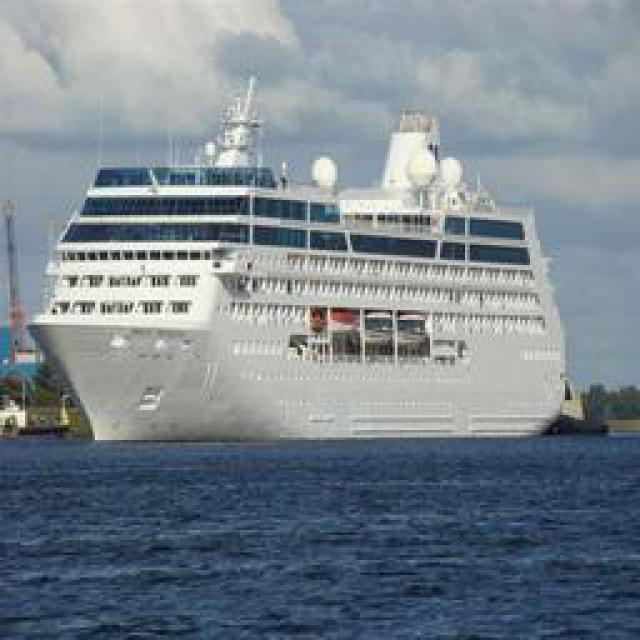Ship: (38, 83, 583, 448)
